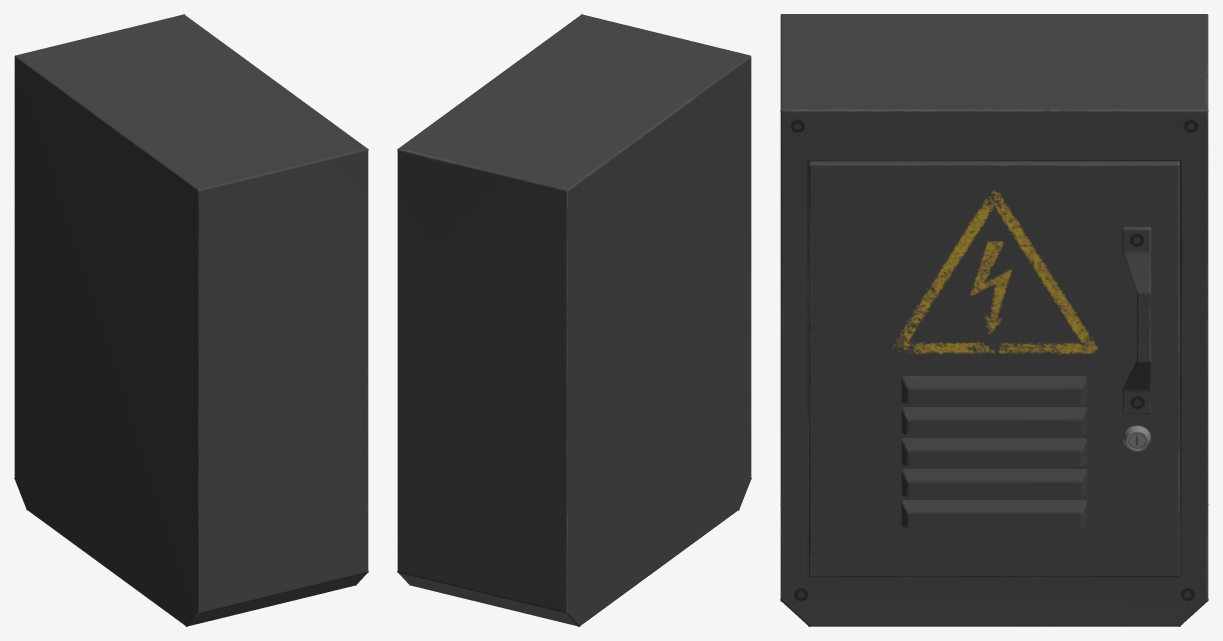
Rendered from SCPSLPowerBox.fbx.
3 renders of one model, left to right at view 1: azimuth 30°, elevation 25°; view 2: azimuth 150°, elevation 25°; view 3: azimuth 270°, elevation 25°, orthographic. The views are drawn at different scales.
Visible parts, largest first — view 1: SCPSLPowerBox; view 2: SCPSLPowerBox; view 3: SCPSLPowerBox.
Part boxes in pixels (x1,y1,x2,y2): SCPSLPowerBox: [14, 14, 368, 626]; SCPSLPowerBox: [397, 14, 751, 626]; SCPSLPowerBox: [780, 14, 1208, 626].
Size of the model in its own units: 0.446 by 1 by 0.751.
Materials: 1 (1 with a texture image).
